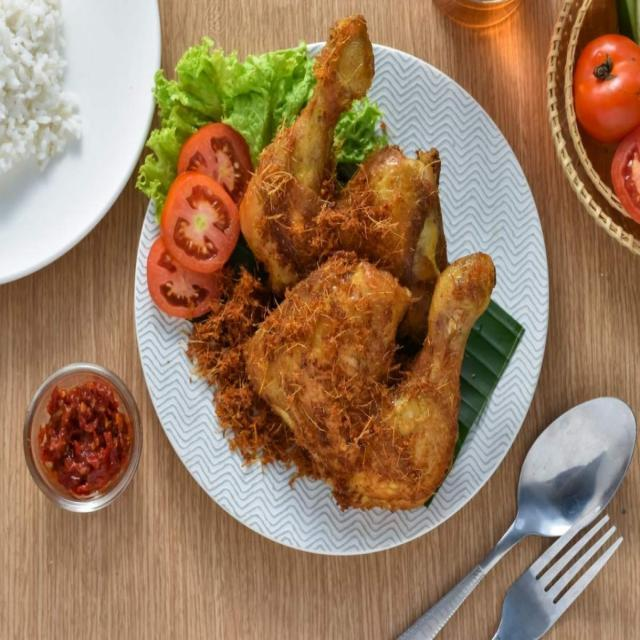ayam_goreng: (207, 12, 510, 497)
